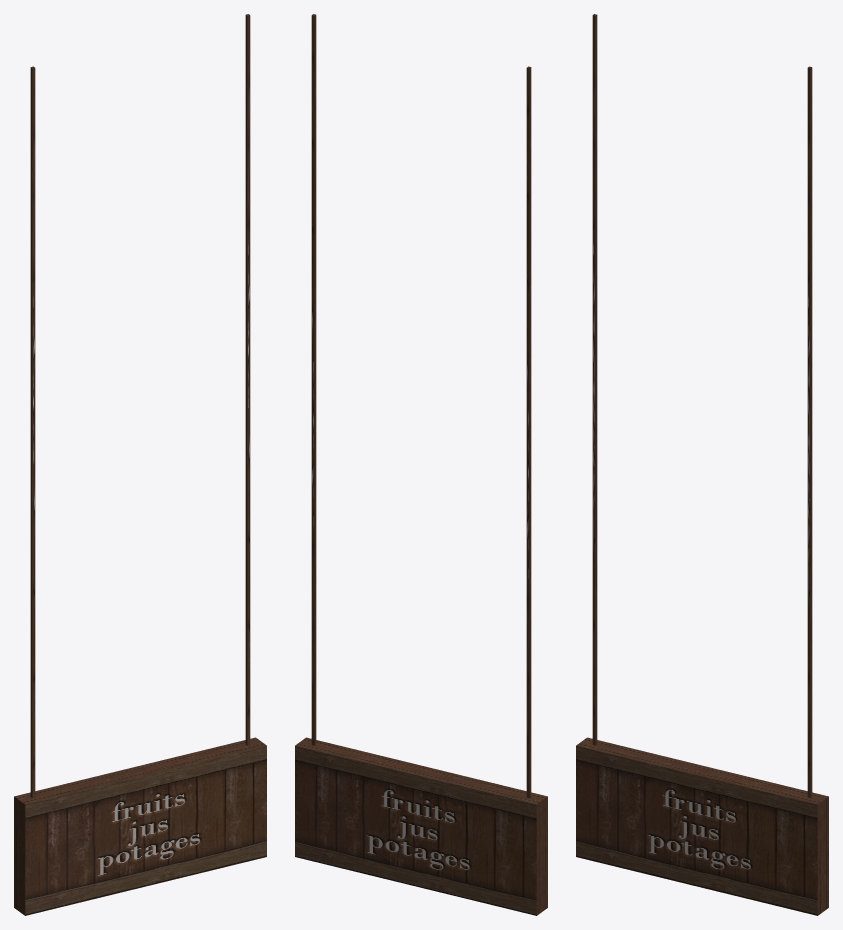
File: SM_Signs_03.FBX
3 renders of one model, left to right at view 1: azimuth 30°, elevation 25°; view 2: azimuth 150°, elevation 25°; view 3: azimuth 330°, elevation 25°, orthographic.
Visible parts, largest first — view 1: SM_Signs_03; view 2: SM_Signs_03; view 3: SM_Signs_03.
Part boxes in pixels (left/top/right/bottom): SM_Signs_03: left=14, top=14, right=266, bottom=915; SM_Signs_03: left=295, top=14, right=547, bottom=915; SM_Signs_03: left=576, top=14, right=828, bottom=915.
Size of the model in its own units: 67.88 by 226 by 5.42.
